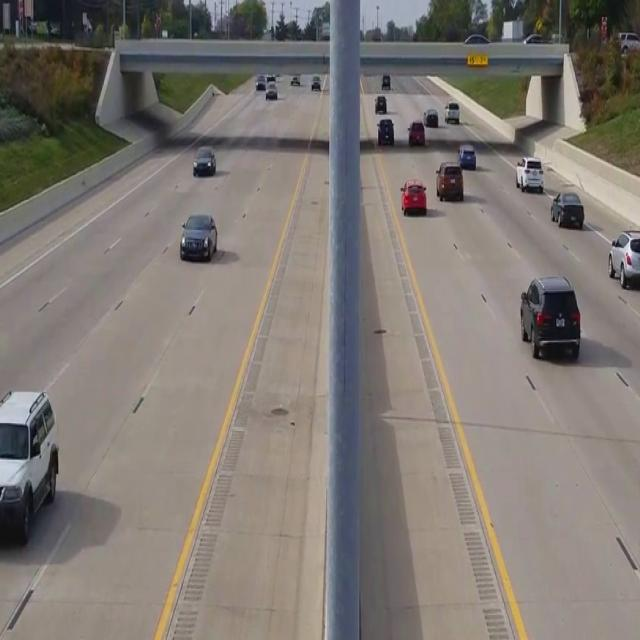car: (0, 388, 59, 546), (519, 276, 581, 360), (607, 230, 640, 290), (179, 213, 217, 261), (550, 190, 584, 228), (436, 160, 462, 200), (401, 180, 426, 214), (193, 146, 215, 176), (458, 144, 475, 168)
